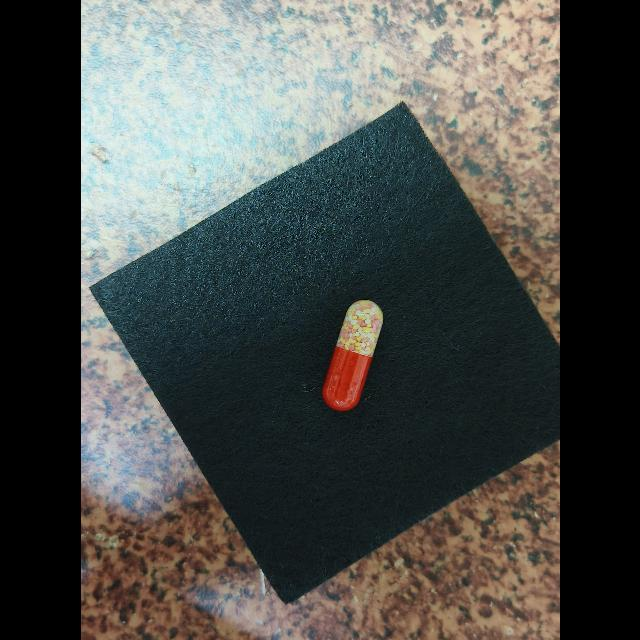Intact Capsule: (321, 300, 383, 411)
